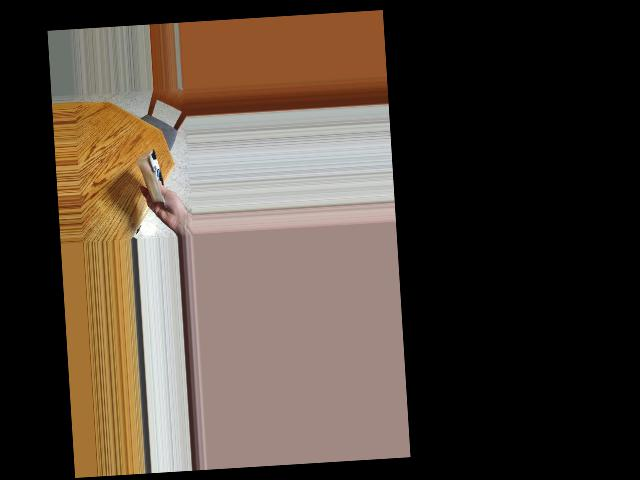cheese: (131, 150, 178, 204)
